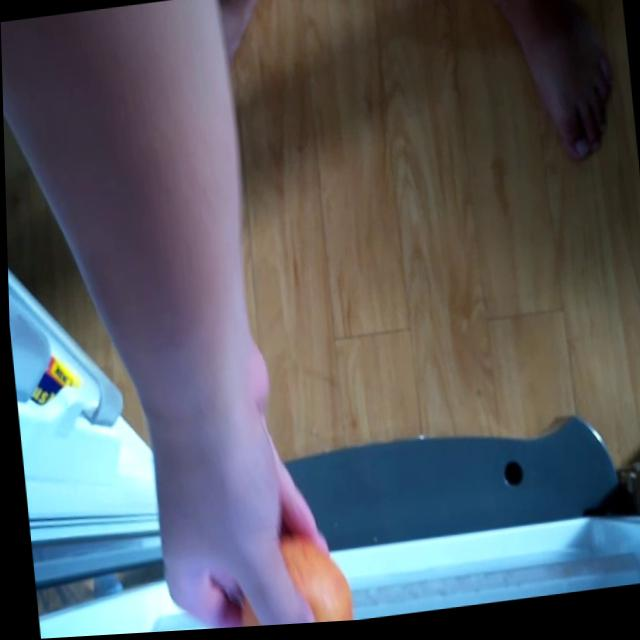apple: (228, 537, 349, 630)
